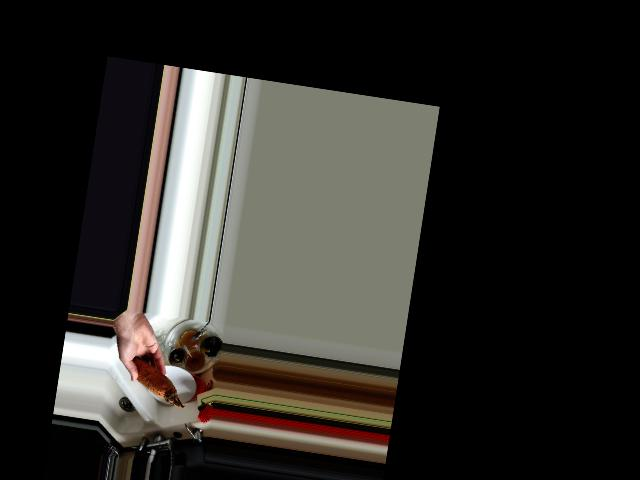sweet_potato: (121, 352, 192, 409)
